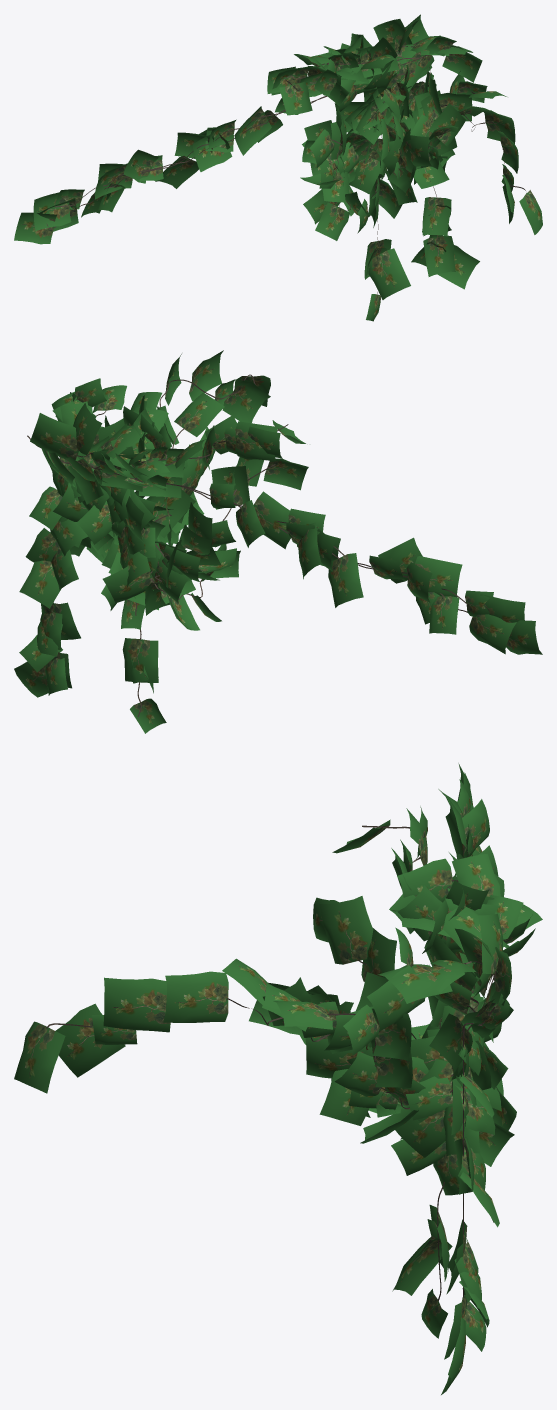
The model's file is SM_Climber_05a.fbx.
3 renders of one model, top to bottom at view 1: azimuth 30°, elevation 25°; view 2: azimuth 150°, elevation 25°; view 3: azimuth 270°, elevation 25°, orthographic. The views are drawn at different scales.
Visible parts, largest first — view 1: SM_Climber_05a_LOD0; view 2: SM_Climber_05a_LOD0; view 3: SM_Climber_05a_LOD0.
Part boxes in pixels (bbox=[...]): SM_Climber_05a_LOD0: bbox=[14, 14, 542, 321]; SM_Climber_05a_LOD0: bbox=[14, 350, 542, 733]; SM_Climber_05a_LOD0: bbox=[14, 763, 542, 1394].
Bounding box in the file's own units: 2023 × 1260 × 1204.
